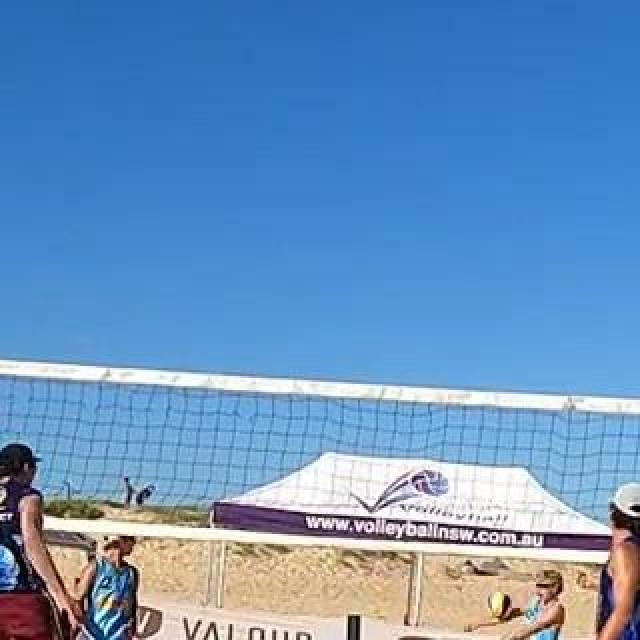volleyball: (488, 592, 512, 620)
